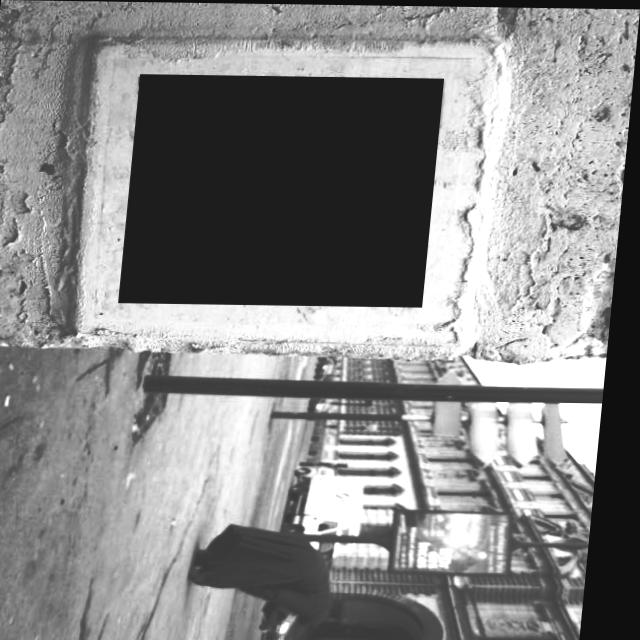qr_code: (123, 74, 445, 306)
